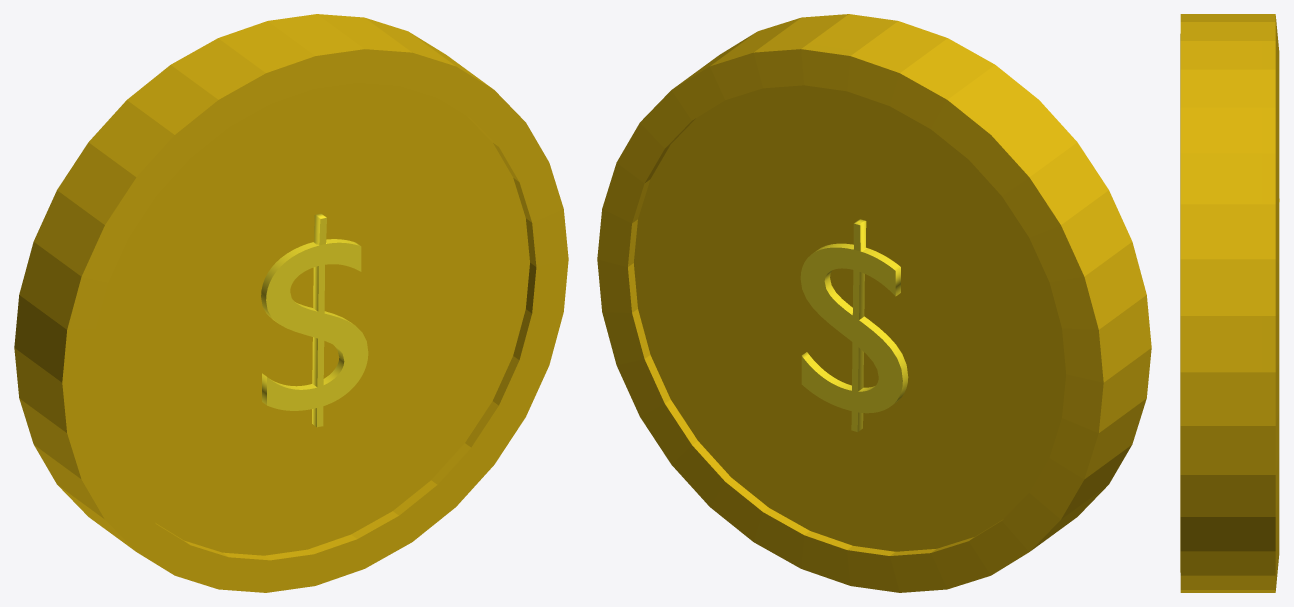
The model's file is monedaparaunity.fbx.
The picture shows the model from 3 angles, left to right: view 1: azimuth 30°, elevation 25°; view 2: azimuth 150°, elevation 25°; view 3: azimuth 270°, elevation 25°; orthographic projection.
Parts seen in each view (by area): view 1: Money; view 2: Money; view 3: Money.
Boxes of the visible parts, bbox=[...] form: Money: bbox=[14, 14, 568, 592]; Money: bbox=[597, 14, 1151, 592]; Money: bbox=[1180, 14, 1279, 592].
Bounding box in the file's own units: 18.47 × 18.47 × 3.16.
Materials: 1 (1 with a texture image).
